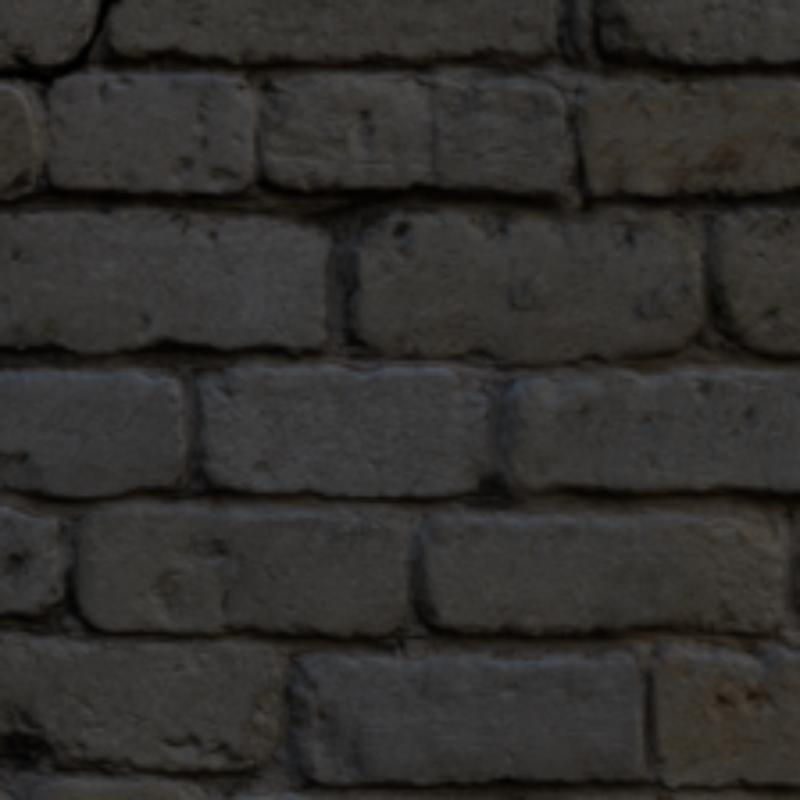pothole: (0, 0, 118, 82)
